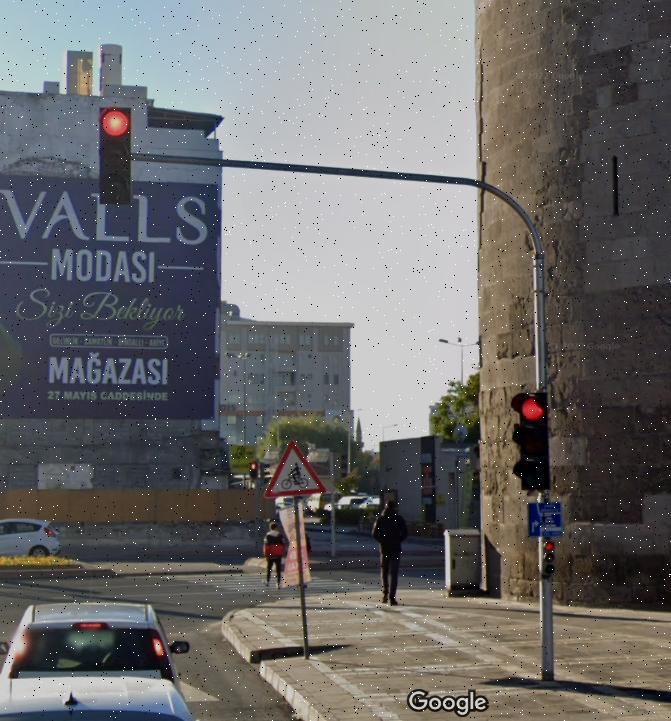redlight: (513, 391, 552, 492), (98, 107, 132, 204)
